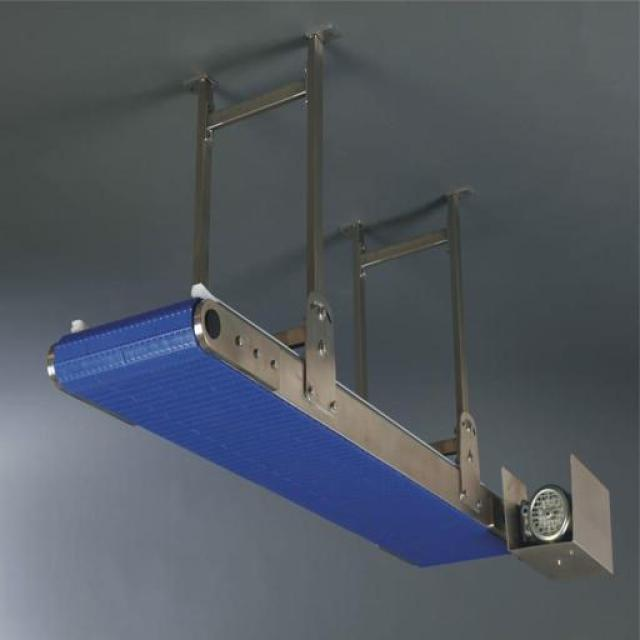conveyor: (49, 301, 512, 569)
